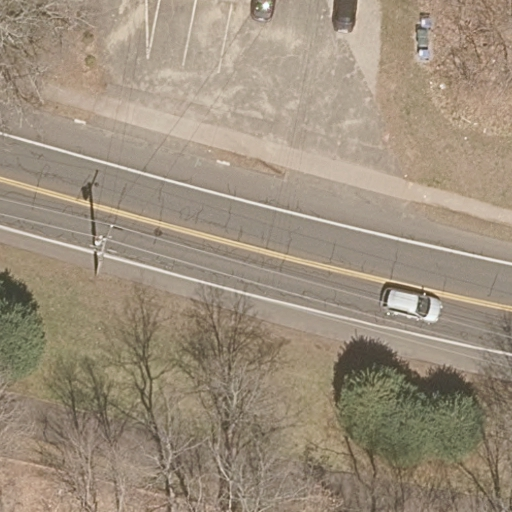DT: (90, 223, 114, 276)
